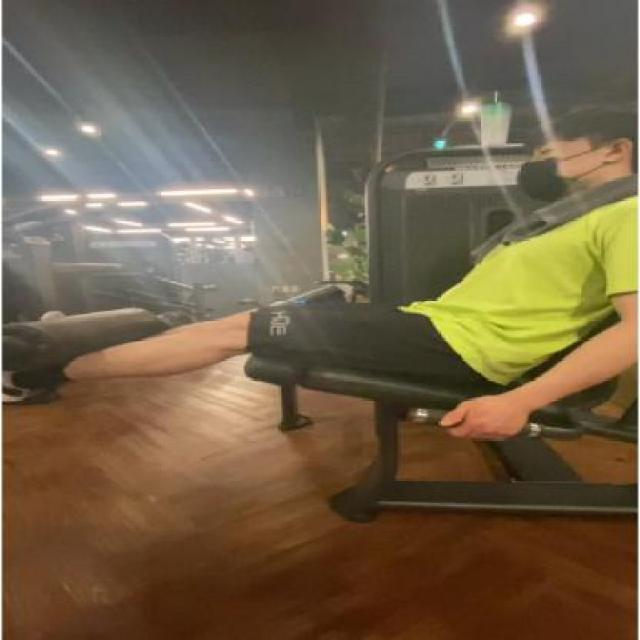leg extension: (0, 109, 640, 540)
